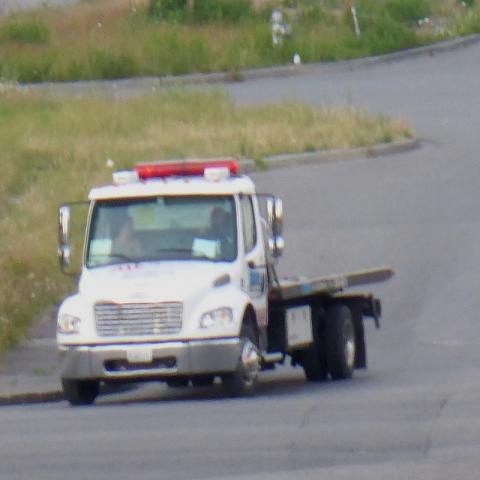truck: (55, 157, 396, 407)
